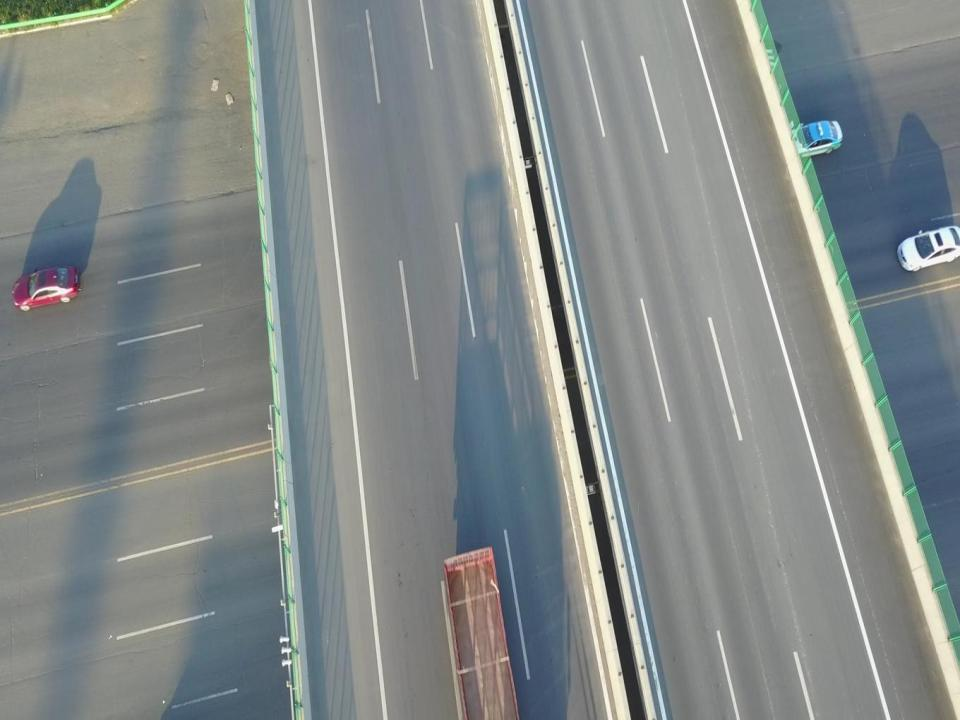car: (11, 266, 81, 310), (896, 225, 960, 272), (785, 117, 843, 159)
truck: (439, 546, 526, 720)
